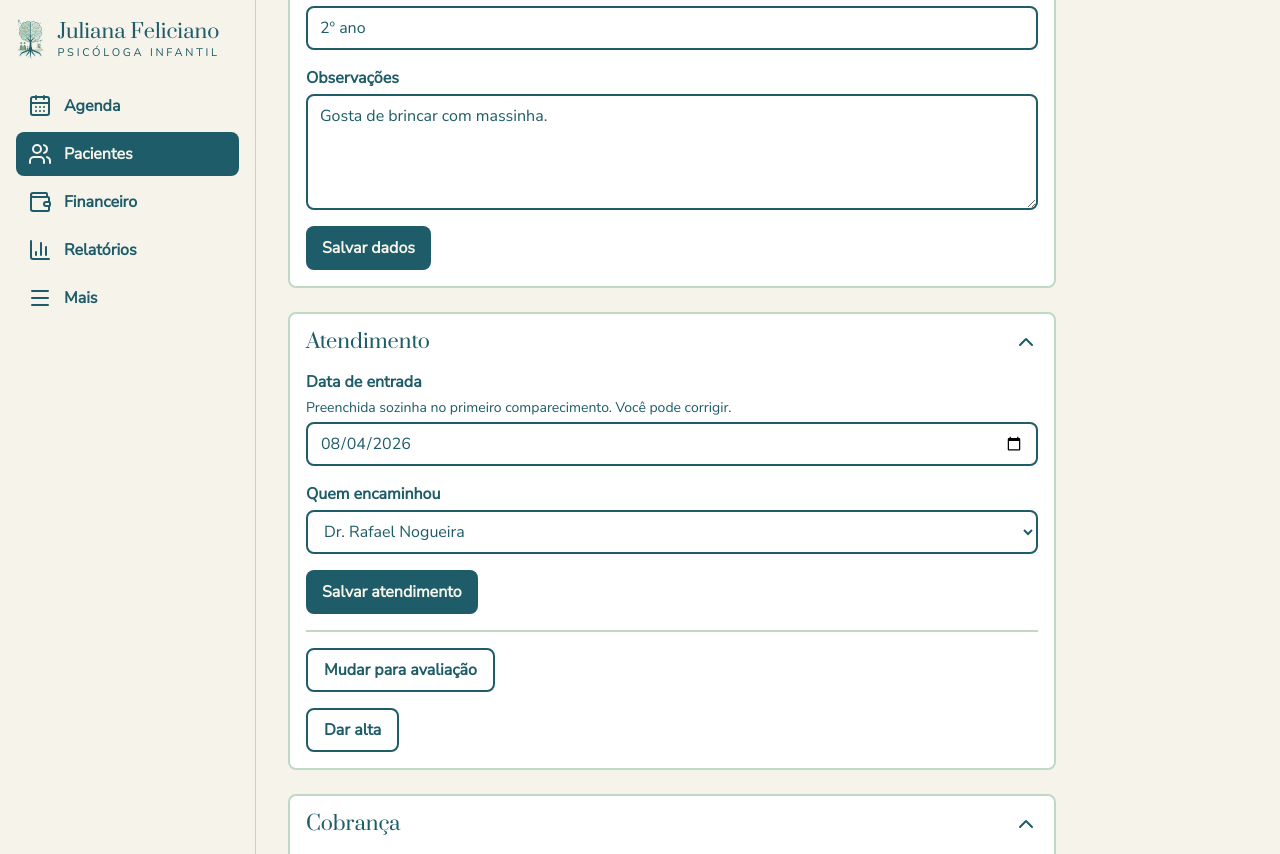
Test case: SecaoAtendimento › a data de entrada pode ser corrigida
(page scrolled)
Type "2026-08-03" into the date field labelled "Data de entrada" at (672,444), box [306, 422, 1038, 466]
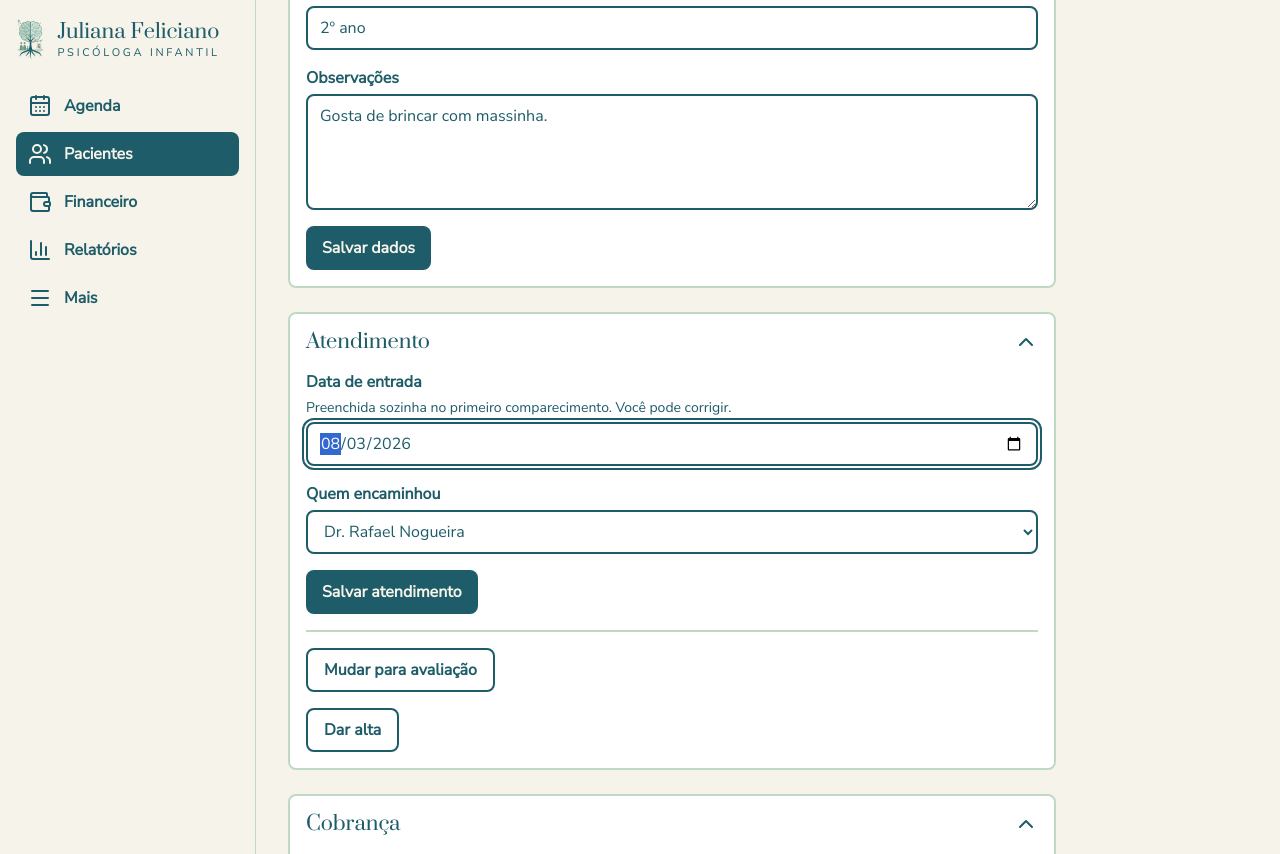
Click the button "Salvar atendimento" at (392,592), box [306, 570, 478, 614]
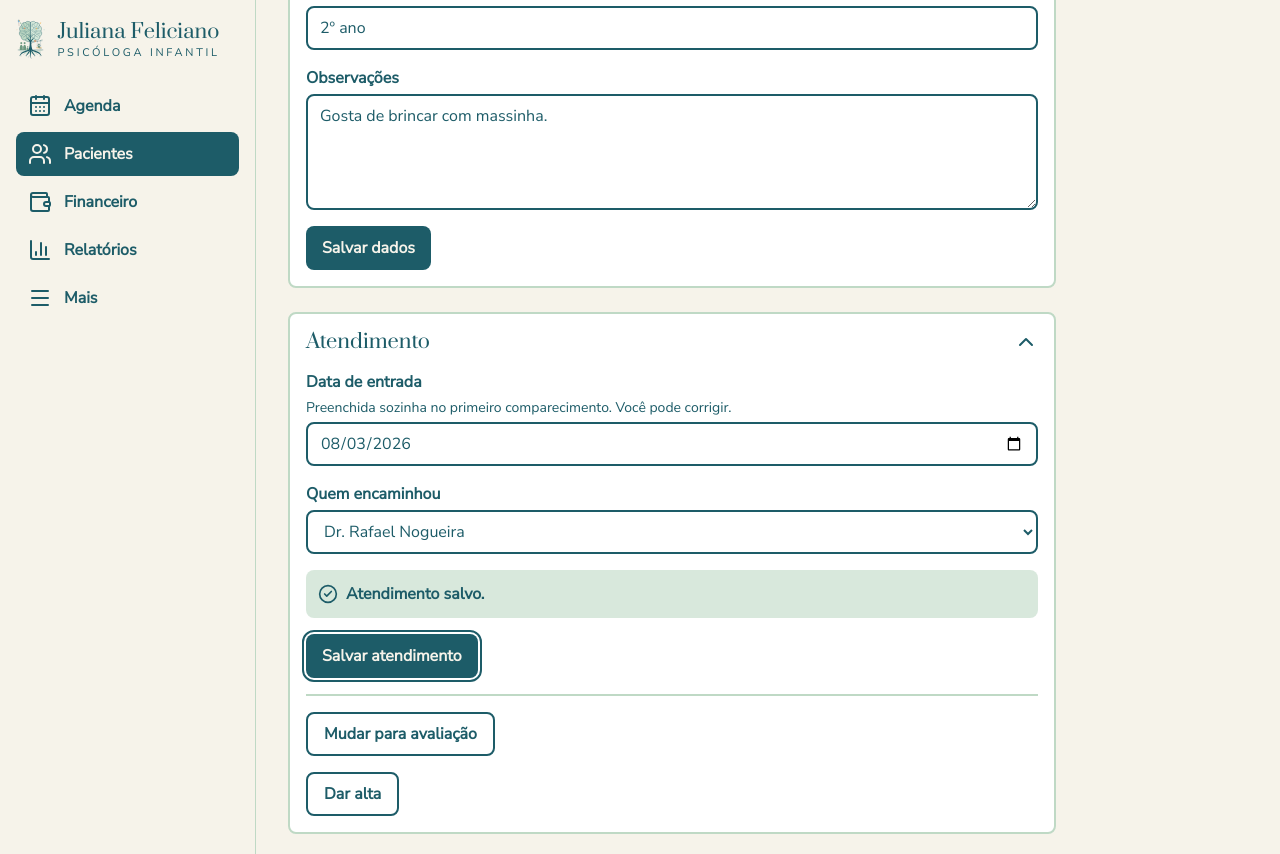
Now the text "Atendimento salvo." is shown, box [306, 570, 1038, 618]
